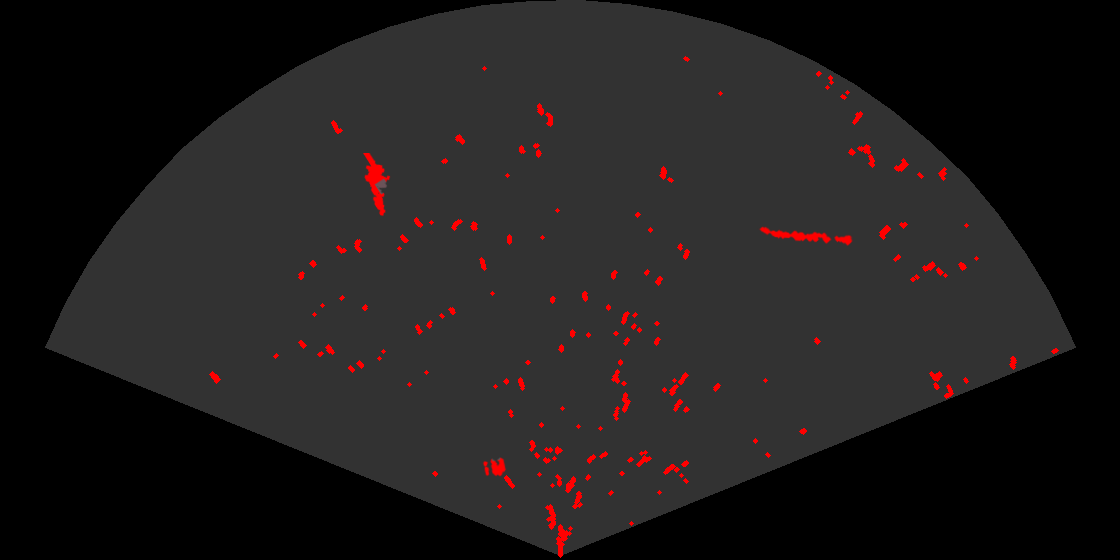ball: (481, 456, 508, 478)
chain: (757, 225, 853, 247)
frogman: (362, 153, 392, 218)
